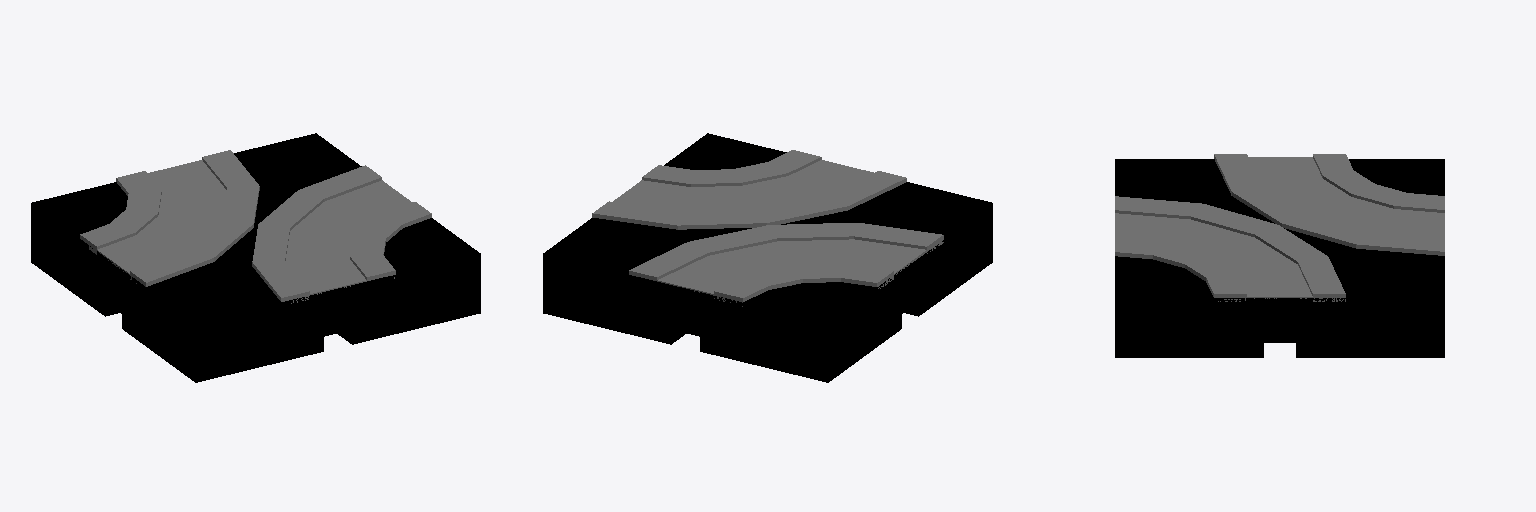
Rendered from puzzlePiece_twoBends_NW_SE.obj.
3 views of the same model, side by side, from view 1: azimuth 30°, elevation 25°; view 2: azimuth 150°, elevation 25°; view 3: azimuth 270°, elevation 25° (orthographic).
Parts seen in each view (by area): view 1: polySurface1 pCube2, polySurface4, polySurface6, pCube2 polySurface3, pCube2 polySurface2; view 2: polySurface1 pCube2, polySurface6, polySurface4, pCube2 polySurface2, pCube2 polySurface3; view 3: polySurface1 pCube2, polySurface4, polySurface6, pCube2 polySurface3, pCube2 polySurface2.
Part boxes in pixels (x1,y1,x2,y2): polySurface1 pCube2: (31, 133, 480, 382); polySurface4: (80, 150, 259, 286); polySurface6: (252, 165, 431, 303); pCube2 polySurface3: (286, 180, 411, 299); pCube2 polySurface2: (97, 160, 225, 283); polySurface1 pCube2: (543, 133, 992, 382); polySurface6: (592, 150, 906, 229); polySurface4: (629, 223, 943, 306); pCube2 polySurface2: (634, 239, 939, 297); pCube2 polySurface3: (613, 160, 873, 211); polySurface1 pCube2: (1115, 159, 1444, 357); polySurface4: (1214, 154, 1444, 255); polySurface6: (1115, 196, 1345, 301); pCube2 polySurface3: (1115, 213, 1334, 298); pCube2 polySurface2: (1249, 157, 1444, 237).
Size of the model in its own units: 0.5 by 0.107 by 0.5.